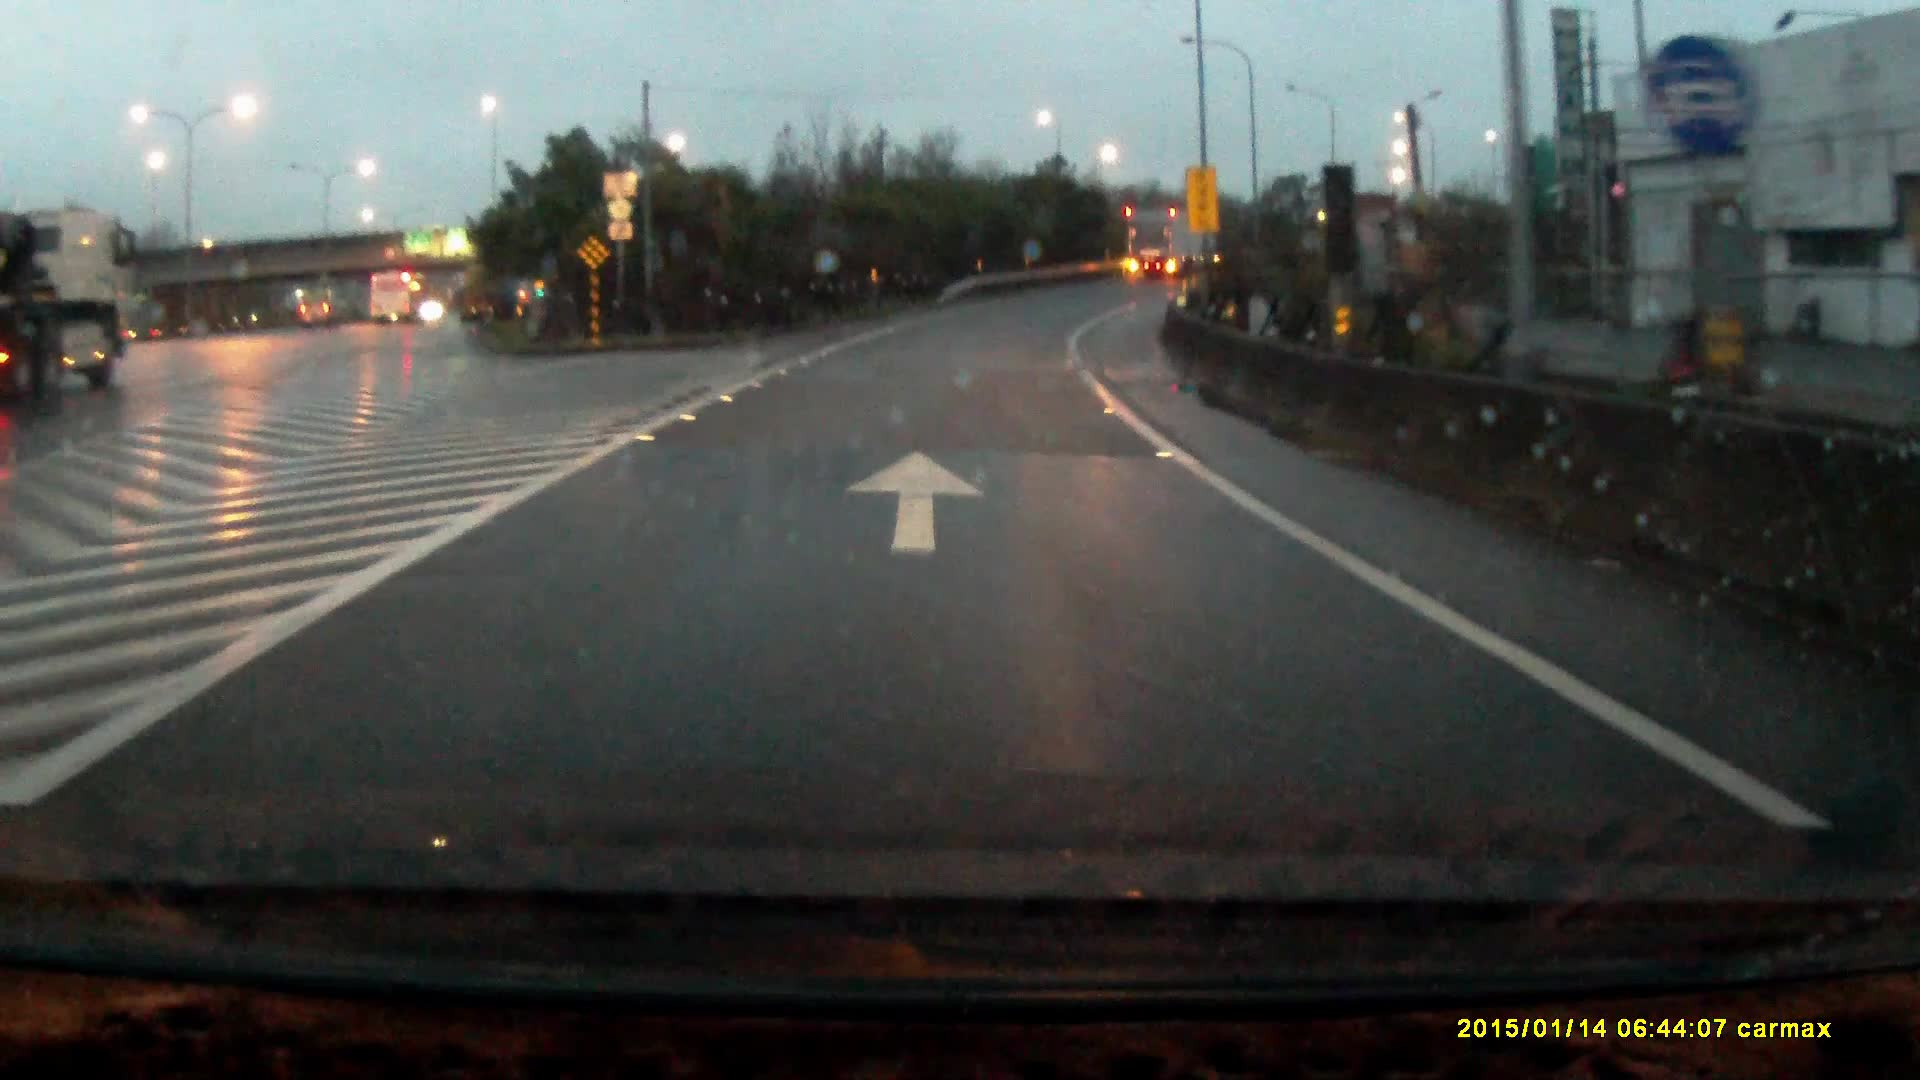vehicle: (1, 208, 140, 402), (1124, 207, 1226, 282), (371, 273, 422, 326), (302, 301, 332, 331)
